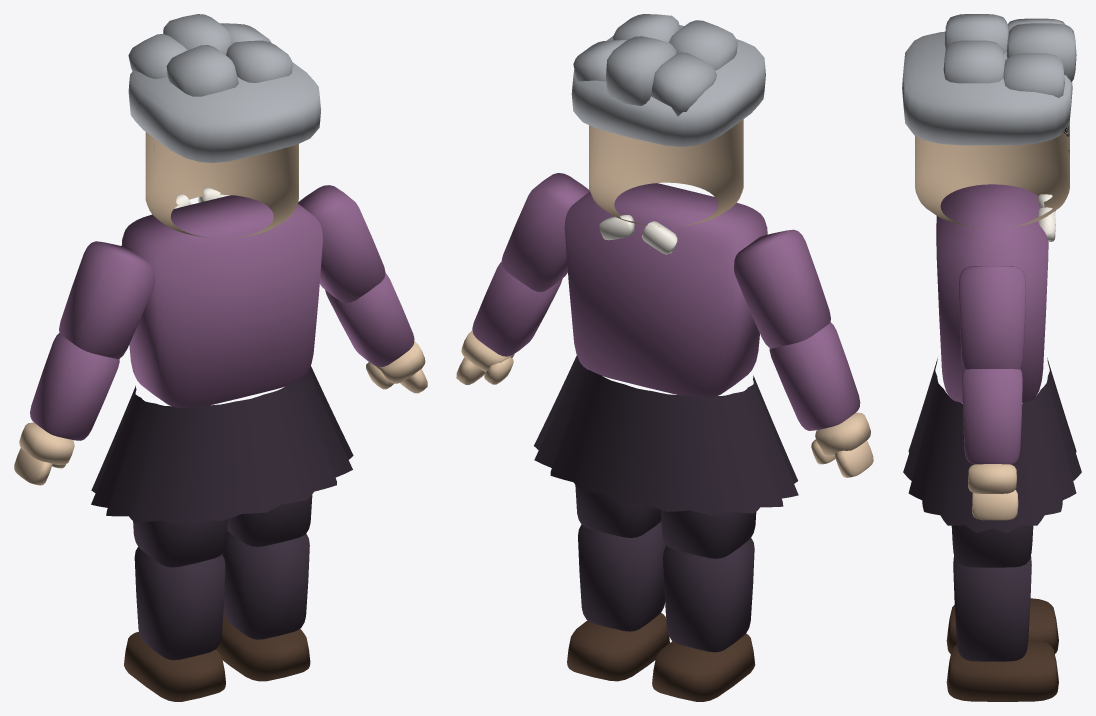
Rendered from Grandma_v2.glb.
The picture shows the model from 3 angles, left to right: view 1: azimuth 30°, elevation 25°; view 2: azimuth 150°, elevation 25°; view 3: azimuth 270°, elevation 25°; orthographic projection.
Visible parts, largest first — view 1: UpperTorso, Head, LowerTorso, LeftLowerLeg, LeftUpperArm, RightLowerLeg, LeftLowerArm, RightUpperArm, RightLowerArm, LeftFoot, RightFoot, LeftUpperLeg (+3 smaller); view 2: UpperTorso, Head, LowerTorso, LeftLowerLeg, LeftUpperArm, RightLowerLeg, LeftLowerArm, RightUpperArm, LeftFoot, RightFoot, RightLowerArm, LeftUpperLeg (+3 smaller); view 3: Head, UpperTorso, LowerTorso, RightLowerLeg, RightUpperArm, RightLowerArm, RightFoot, RightUpperLeg, RightHand, LeftFoot.
Part boxes in pixels (box(x1,y1,x2,y2)): UpperTorso: box(121, 187, 322, 408); Head: box(128, 14, 320, 238); LowerTorso: box(91, 366, 353, 524); LeftLowerLeg: box(134, 547, 225, 660); LeftUpperArm: box(59, 241, 154, 358); RightLowerLeg: box(222, 530, 309, 639); LeftLowerArm: box(30, 333, 119, 440); RightUpperArm: box(298, 185, 385, 303); RightLowerArm: box(325, 273, 414, 366); LeftFoot: box(124, 631, 225, 701); RightFoot: box(216, 612, 310, 681); LeftUpperLeg: box(133, 519, 227, 567); UpperTorso: box(564, 183, 767, 397); Head: box(571, 14, 765, 226); LowerTorso: box(534, 355, 798, 515); LeftLowerLeg: box(663, 538, 754, 652); LeftUpperArm: box(734, 229, 830, 348); RightLowerLeg: box(578, 522, 666, 631); LeftLowerArm: box(769, 322, 860, 430); RightUpperArm: box(501, 173, 589, 292); LeftFoot: box(652, 633, 755, 701); RightFoot: box(567, 613, 669, 681); RightLowerArm: box(472, 262, 562, 356); LeftUpperLeg: box(660, 510, 756, 558); Head: box(902, 14, 1076, 228); UpperTorso: box(936, 184, 1055, 403); LowerTorso: box(903, 358, 1081, 532); RightLowerLeg: box(953, 556, 1031, 661); RightUpperArm: box(959, 266, 1025, 369); RightLowerArm: box(962, 369, 1022, 464); RightFoot: box(946, 639, 1058, 701); RightUpperLeg: box(951, 525, 1033, 567); RightHand: box(968, 464, 1018, 520); LeftFoot: box(946, 598, 1058, 653).
Size of the model in its own units: 3.59 by 5.45 by 1.39.
Materials: 1 (1 with a texture image).
